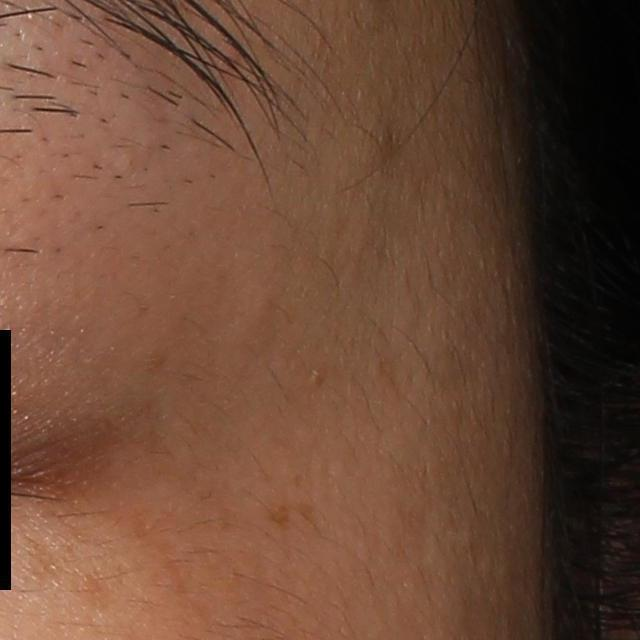melasma: (21, 536, 63, 586), (81, 568, 108, 610), (265, 502, 291, 529)
